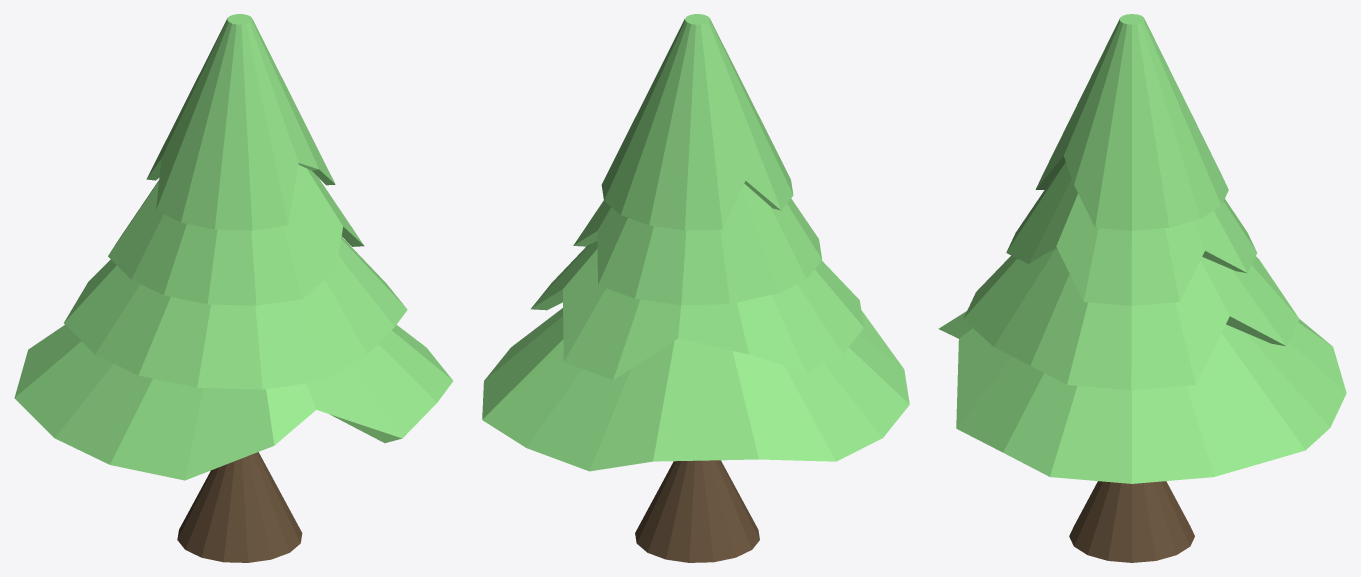
File: agac4.fbx
3 renders of one model, left to right at view 1: azimuth 30°, elevation 25°; view 2: azimuth 150°, elevation 25°; view 3: azimuth 270°, elevation 25°, orthographic.
Visible parts, largest first — view 1: Cylinder.035; view 2: Cylinder.035; view 3: Cylinder.035.
Part boxes in pixels (x1,y1,x2,y2): Cylinder.035: [14, 14, 453, 562]; Cylinder.035: [482, 14, 909, 562]; Cylinder.035: [938, 14, 1346, 562].
Bounding box in the file's own units: 4.44 × 5.9 × 4.22.
